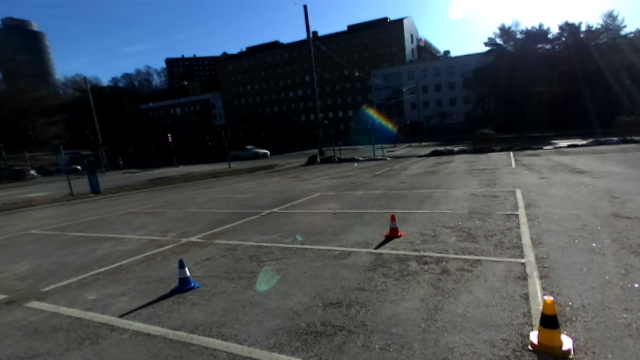blue: (169, 255, 200, 294)
orange: (382, 210, 405, 239)
yellow: (524, 291, 578, 357)
